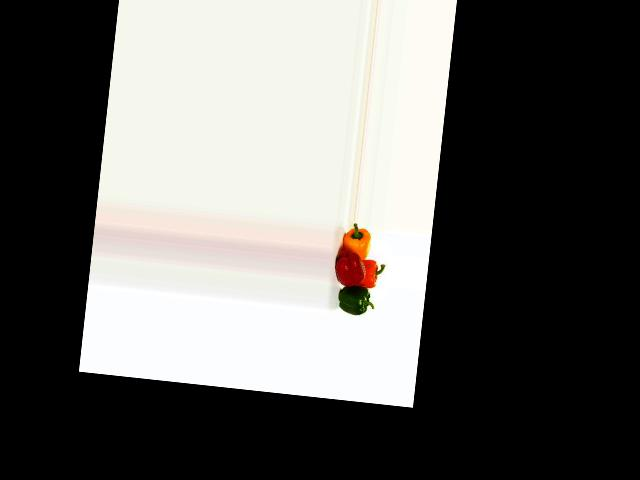bell_pepper: (332, 281, 374, 316)
